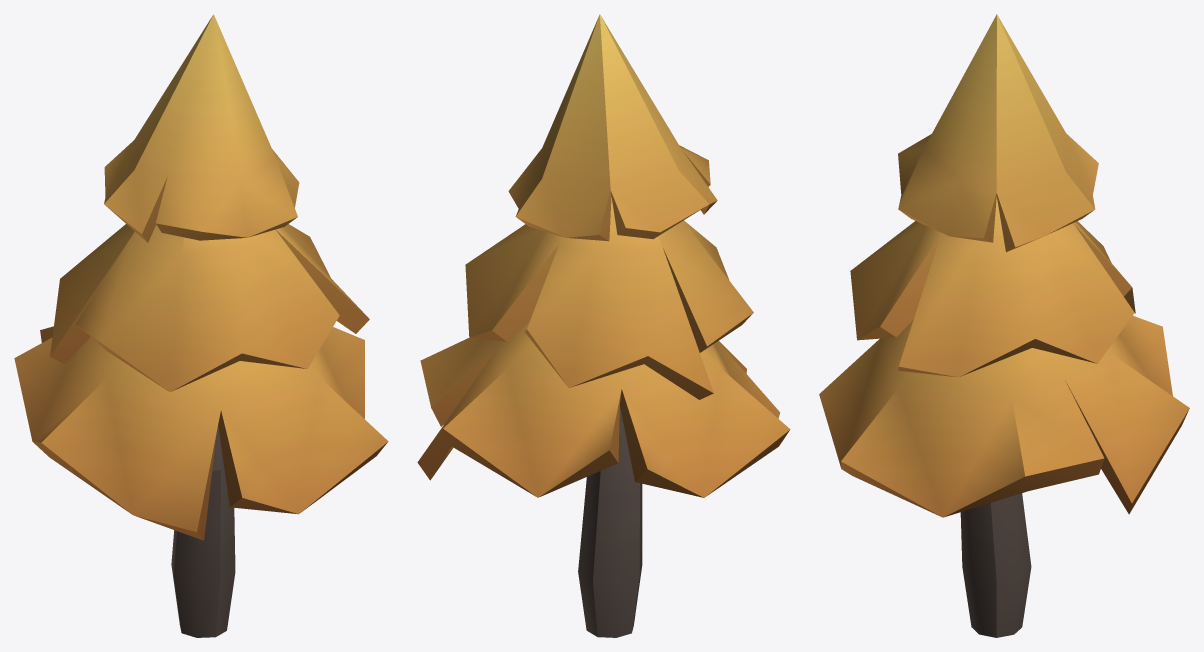
Rendered from tree_pine_yellow_small.glb.
The picture shows the model from 3 angles, left to right: view 1: azimuth 30°, elevation 25°; view 2: azimuth 150°, elevation 25°; view 3: azimuth 270°, elevation 25°; orthographic projection.
Visible parts, largest first — view 1: tree_pine_yellow_small; view 2: tree_pine_yellow_small; view 3: tree_pine_yellow_small.
Part boxes in pixels (x1,y1,x2,y2): tree_pine_yellow_small: (14, 14, 388, 637); tree_pine_yellow_small: (417, 14, 790, 637); tree_pine_yellow_small: (819, 14, 1189, 637).
Bounding box in the file's own units: 2.4 × 4.04 × 2.2.
Materials: 1 (1 with a texture image).
